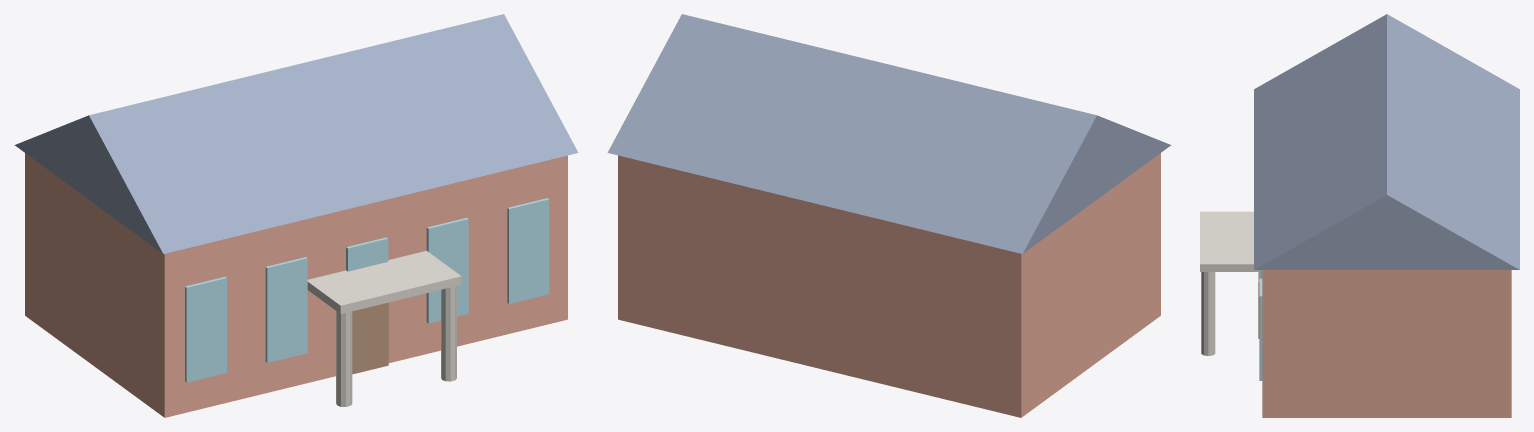
The model's file is library.glb.
3 renders of one model, left to right at view 1: azimuth 30°, elevation 25°; view 2: azimuth 150°, elevation 25°; view 3: azimuth 270°, elevation 25°, orthographic. The views are drawn at different scales.
Visible parts, largest first — view 1: library_roof_slate, library_brick, library_window, library_stone, library_door; view 2: library_brick, library_roof_slate; view 3: library_roof_slate, library_brick, library_stone, library_window.
Boxes of the visible parts, x1,y1,x2,y2 form: library_roof_slate: (14, 14, 578, 253); library_brick: (25, 153, 567, 417); library_window: (185, 198, 549, 382); library_stone: (307, 250, 461, 406); library_door: (352, 302, 388, 374); library_brick: (618, 153, 1160, 417); library_roof_slate: (607, 14, 1171, 253); library_roof_slate: (1254, 14, 1519, 269); library_brick: (1262, 270, 1511, 417); library_stone: (1200, 211, 1259, 355); library_window: (1259, 270, 1262, 380).
Bounding box in the file's own units: 20.6 × 12 × 15.4.
